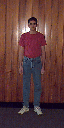person: (14, 16, 49, 118)
